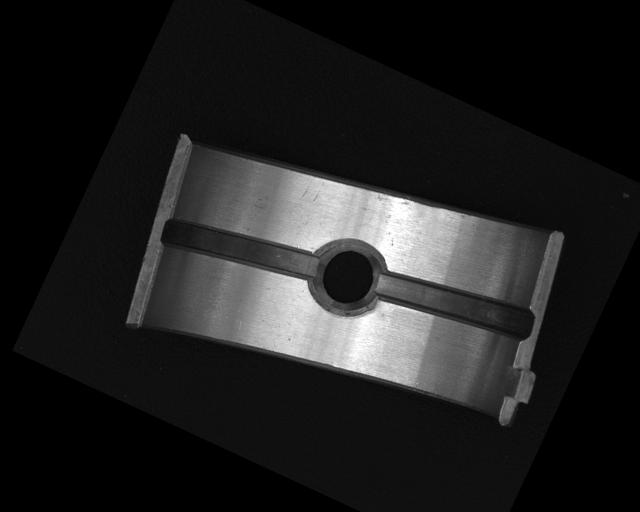gap: (369, 246, 537, 361), (158, 191, 324, 307)
hole: (302, 228, 391, 321)
